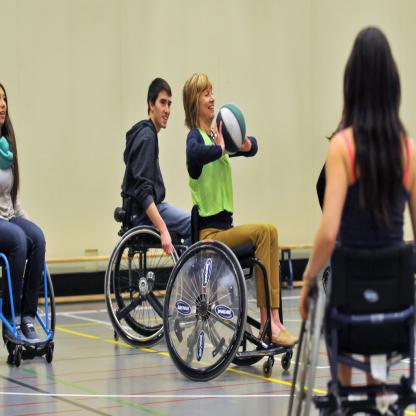Ball: (214, 104, 245, 154)
